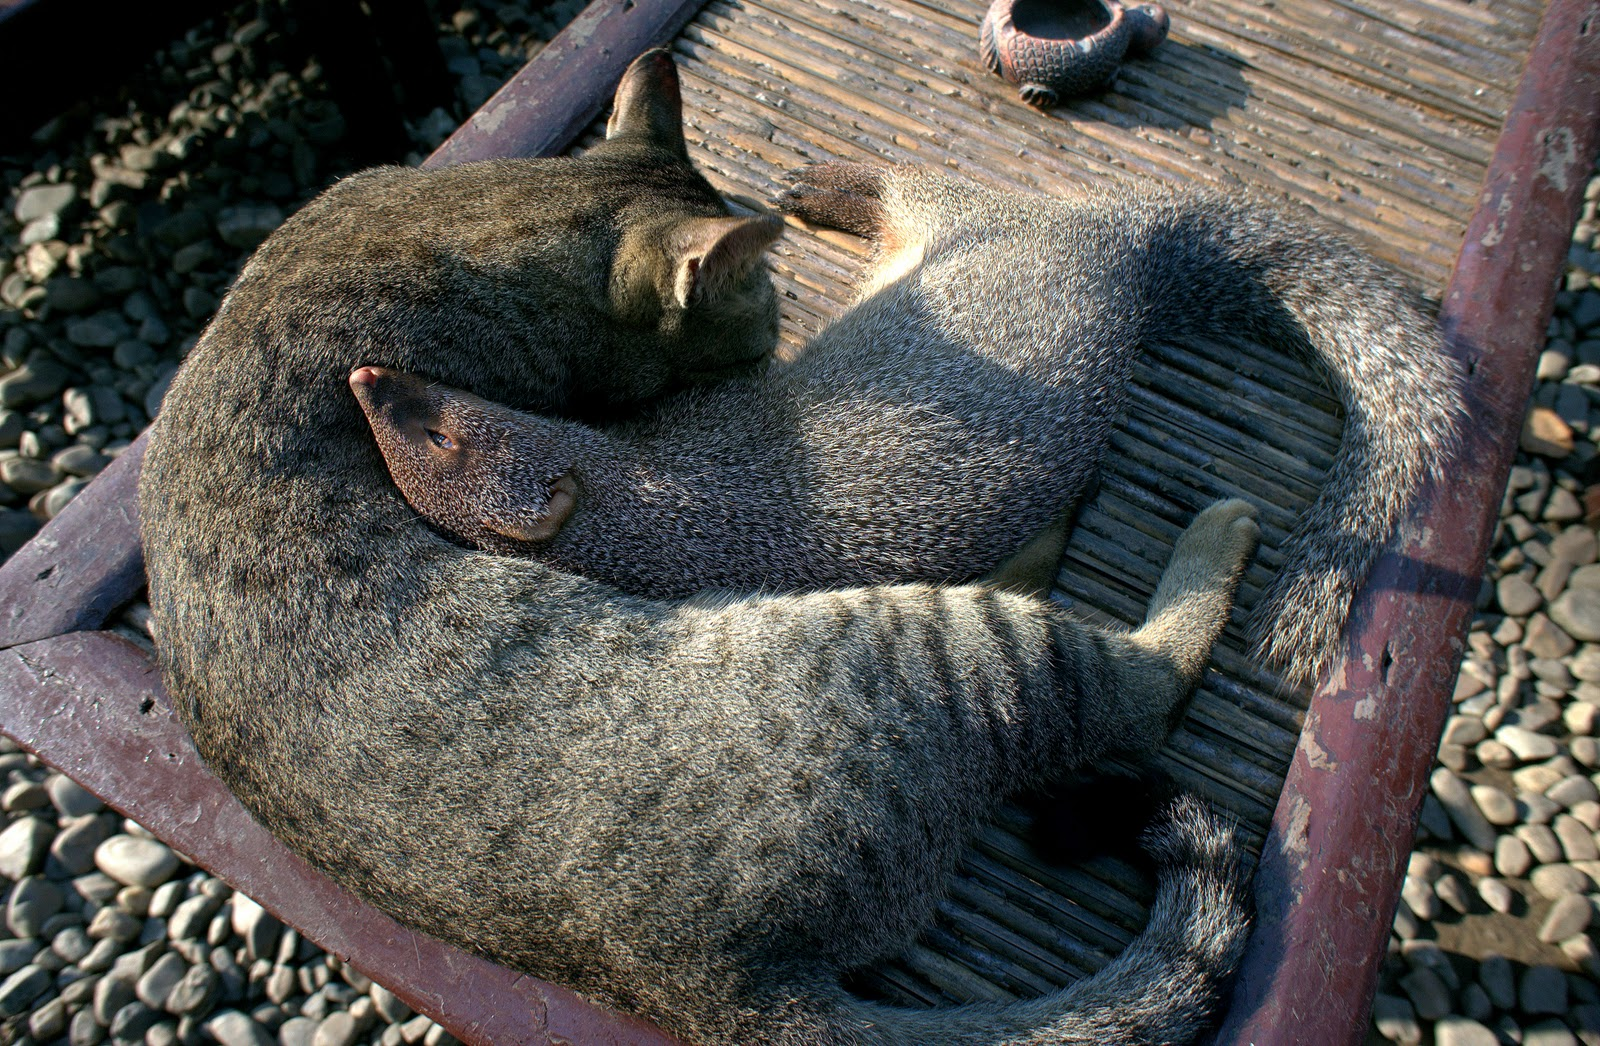cat: (131, 44, 1318, 1046)
